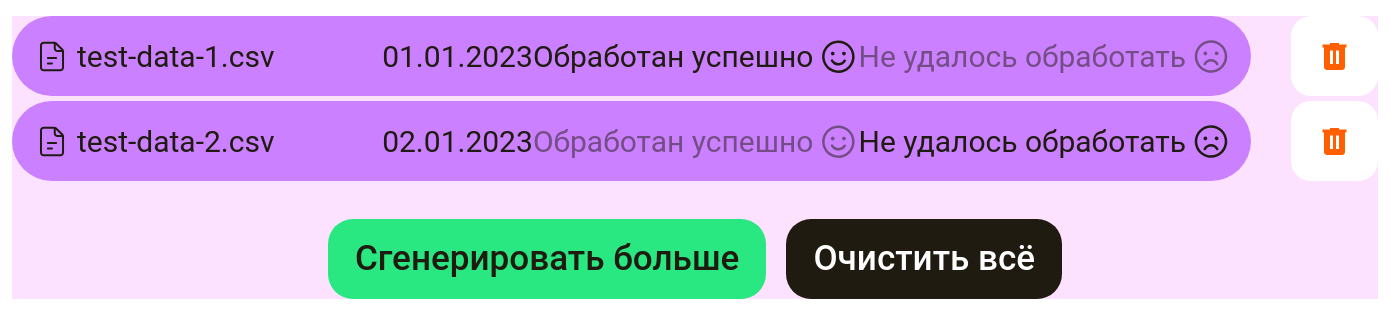
Test: Интеграционные тесты для HistoryPage › TC-HY-005: Кнопка "Сгенерировать больше" перенаправляет на страницу генерации
Click the button with test id "generate-more-button".
click(547, 258)  # box [328,218,766,298]
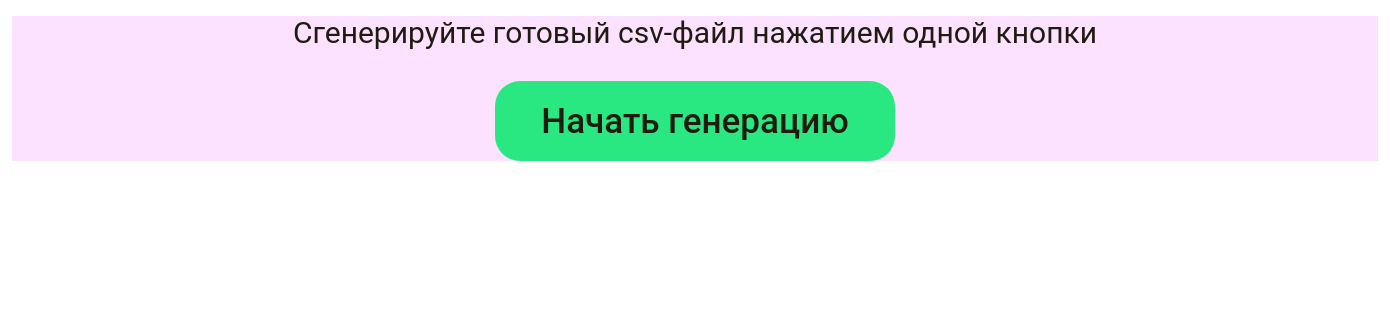
Expected: the button with test id "generate-button" is shown, [495,81,895,161]
